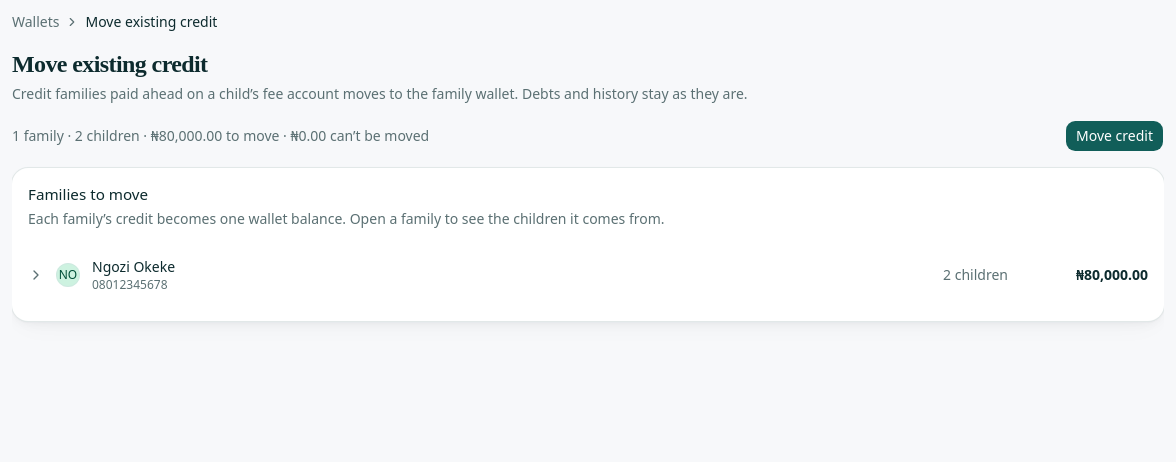
Test: CreditMigrationPage › lists each family with its total and opens to its children, tagging a leaver
Expected: the text "Tobi Okeke" is not shown
Click the button "NO Ngozi Okeke 08012345678 2 children ₦80,000.00": point(134, 266) [12,245,1164,305]
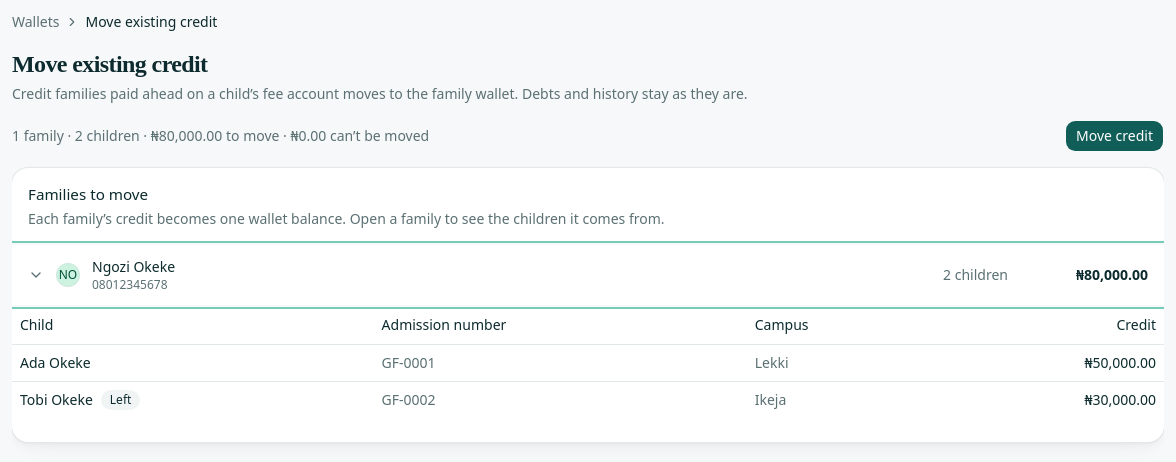
Expected: the row "Ada Okeke GF-0001 Lekki ₦50,000.00" does not show "Left", [12,345,1164,382]
Expected: the row "Tobi Okeke Left GF-0002 Ikeja ₦30,000.00" is shown, [12,382,1164,418]
